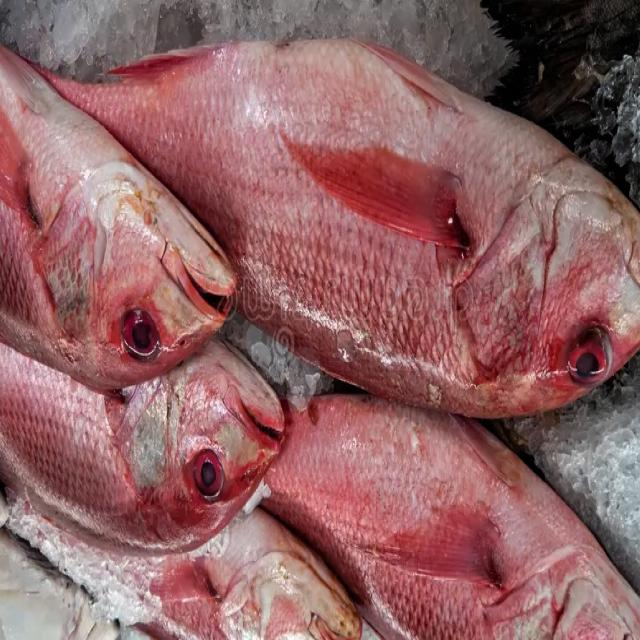Red Snapper: (25, 38, 640, 418)
